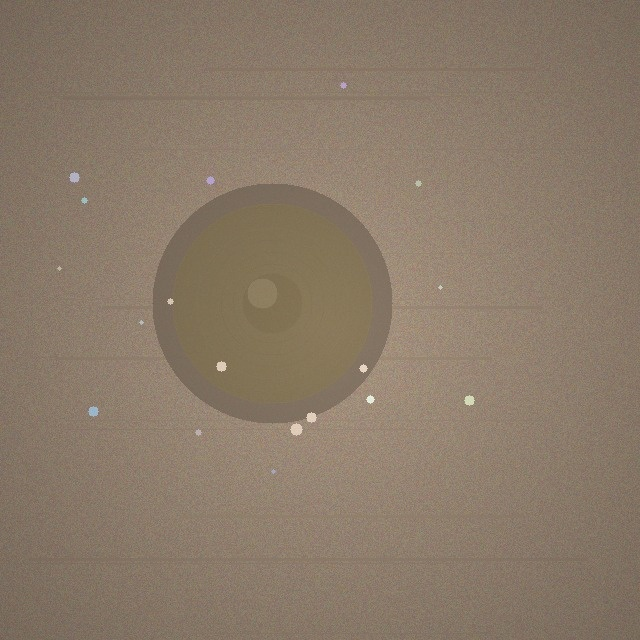overburn: (152, 183, 392, 423)
